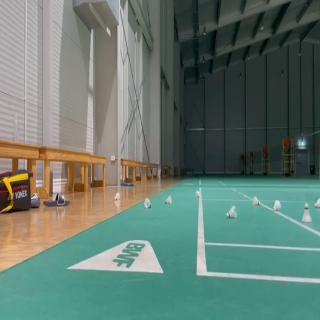Shuttle: (302, 202, 312, 223), (226, 204, 237, 219), (144, 197, 152, 209), (273, 200, 281, 212), (164, 195, 172, 205), (252, 195, 260, 205), (314, 198, 320, 208), (114, 192, 120, 200), (195, 190, 200, 198)
